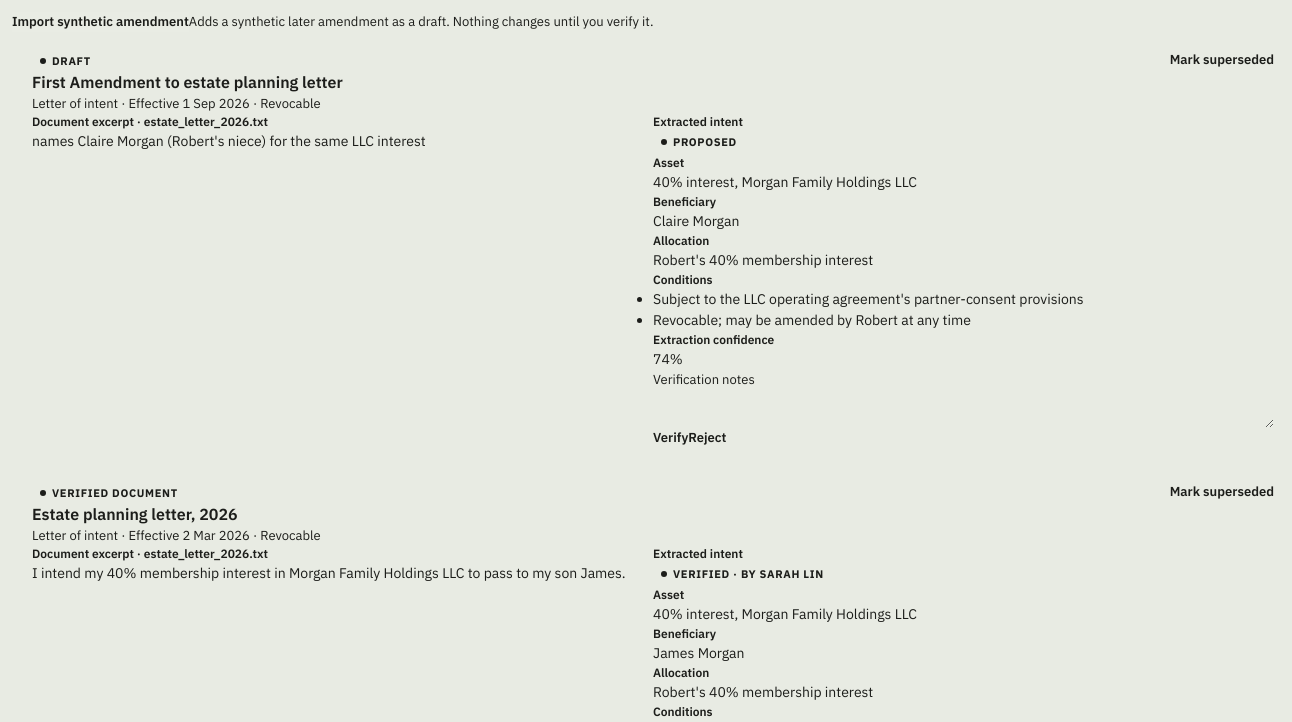
Test: IntentReview › asks for a reload when the source changed since it was opened
Click the button "Verify".
click(671, 438)  # box [653, 428, 688, 448]
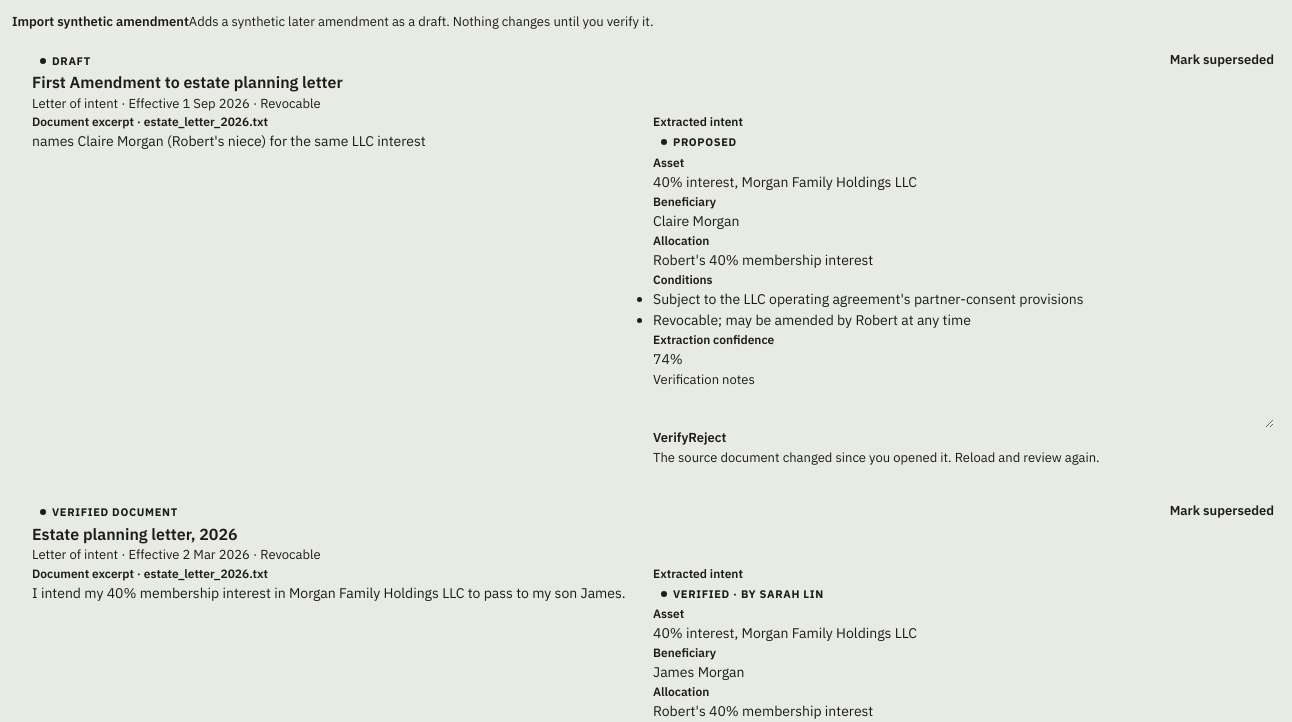
Result: the message shows "source document changed" at [653, 449, 1100, 466]
